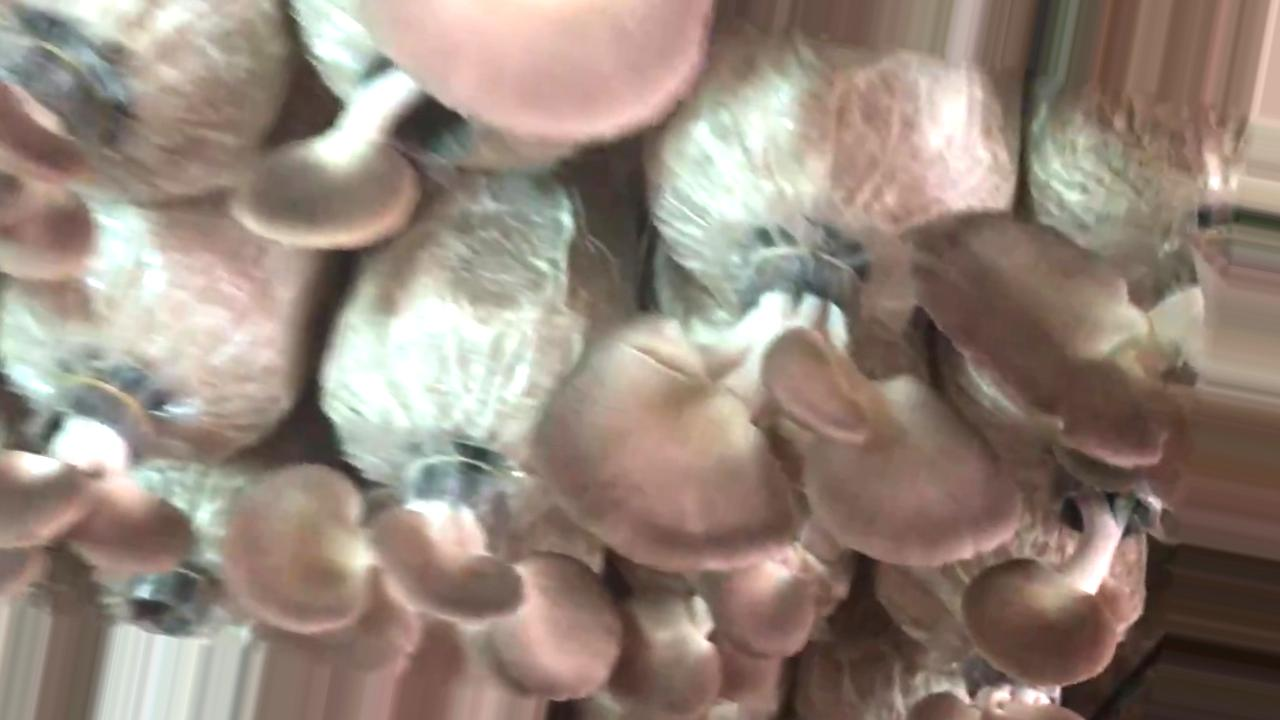nam: (534, 247, 1014, 573), (227, 459, 620, 719), (910, 210, 1183, 464), (360, 1, 708, 140), (1, 378, 195, 600), (966, 469, 1159, 684), (230, 65, 421, 249), (1, 17, 109, 283), (611, 575, 722, 720), (705, 568, 812, 655)
